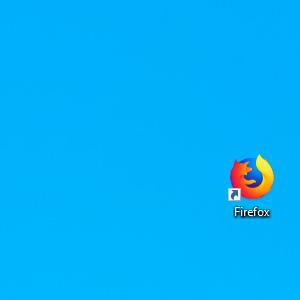firefox: (227, 153, 275, 202)
